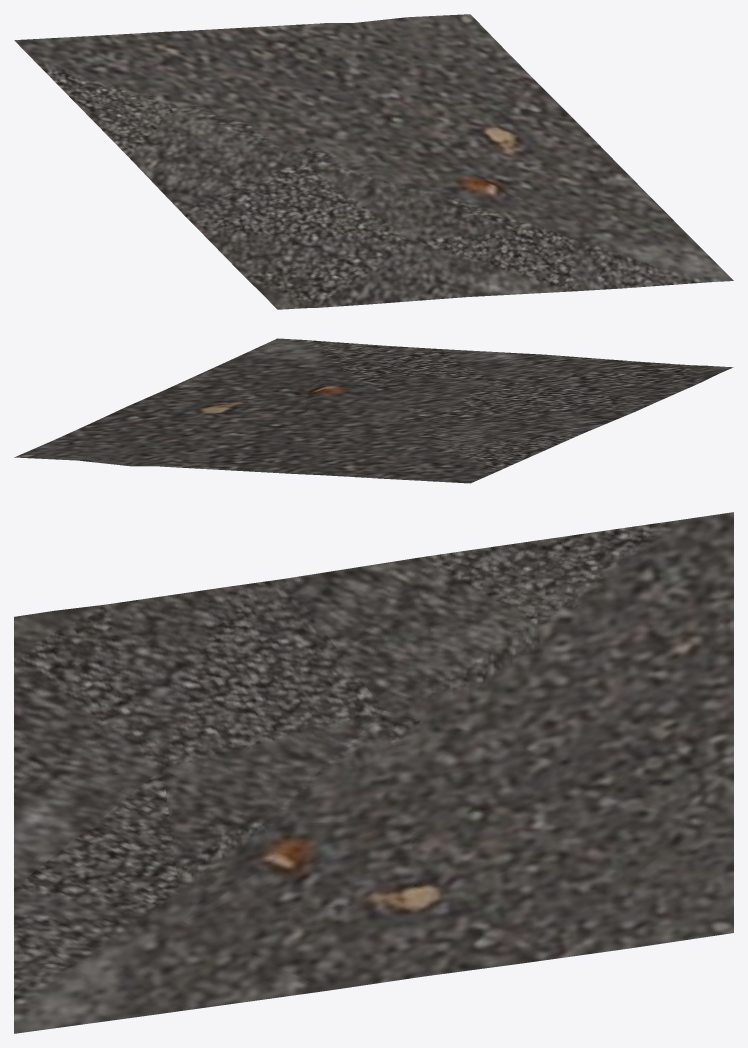
3 views of the same model, one above another, from view 1: azimuth 30°, elevation 25°; view 2: azimuth 150°, elevation 25°; view 3: azimuth 270°, elevation 25° (orthographic). The views are drawn at different scales.
Bounding box in the file's own units: 0.8374 × 0.2791 × 0.8374.
Materials: 3 (3 with a texture image).
